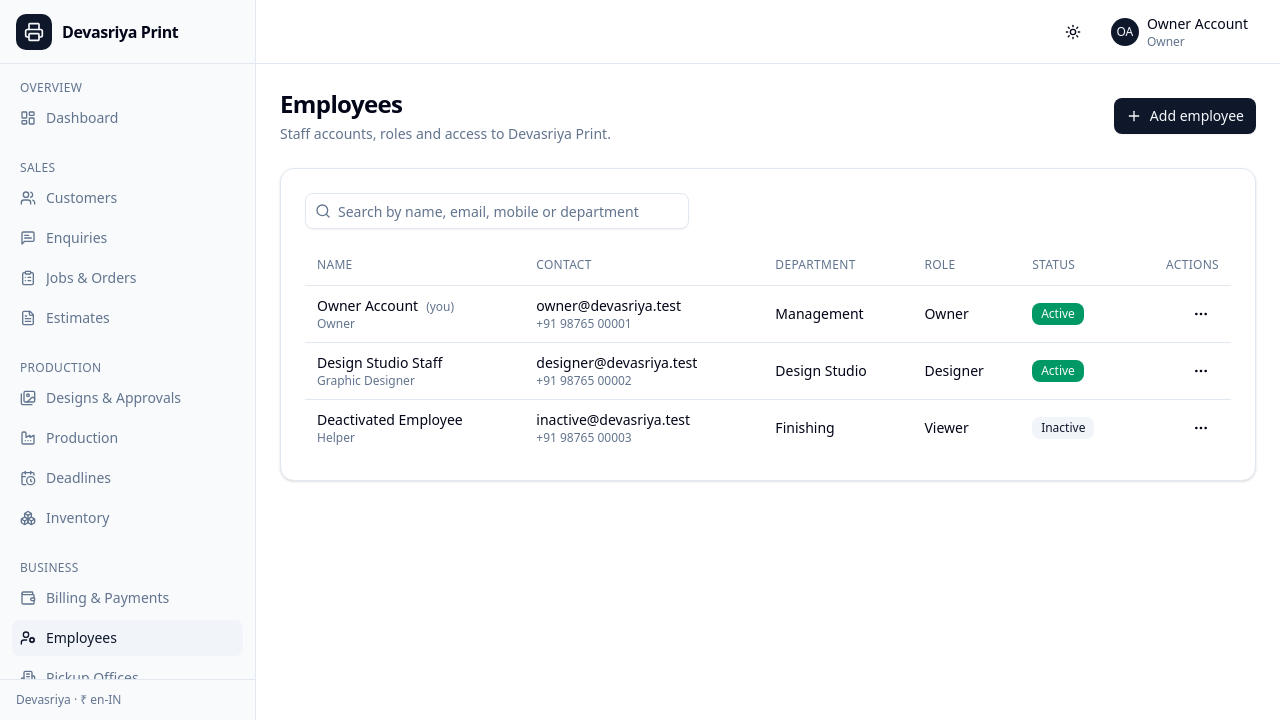
it: audit history › says so when nothing has been recorded
Click the button named "Actions for Design Studio Staff". click: (1201, 370)
box: [1183,352,1219,388]
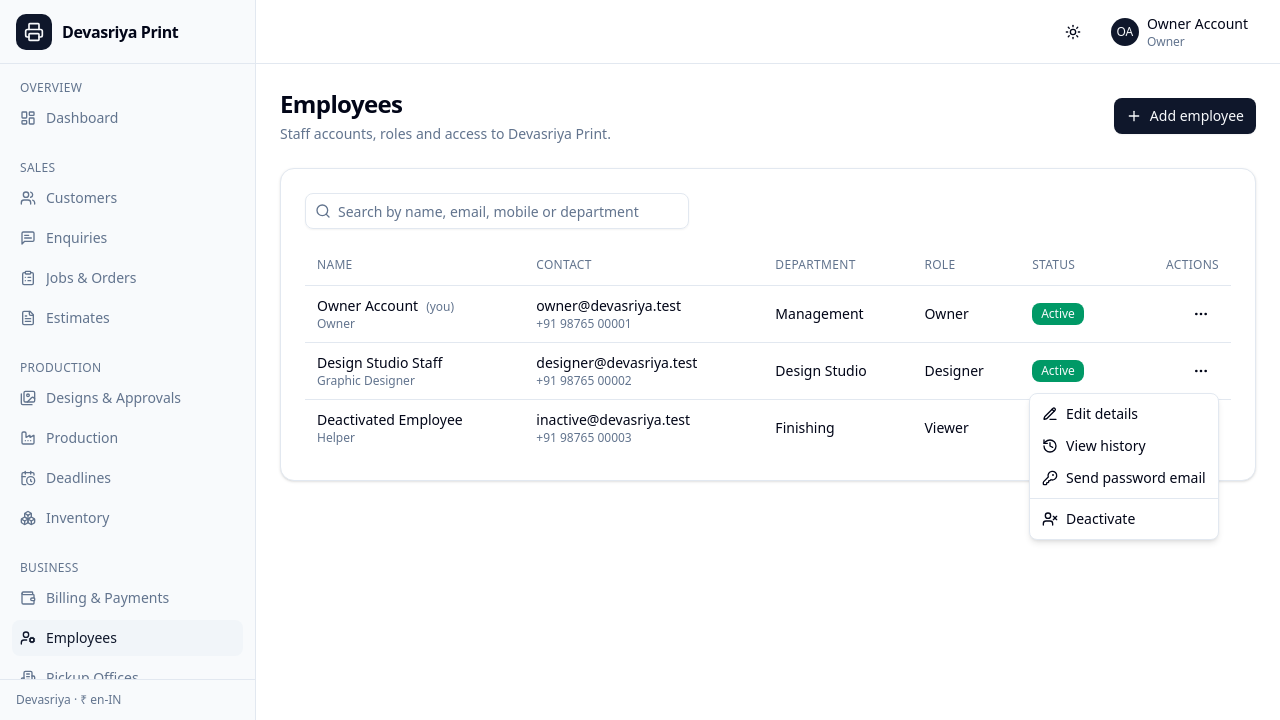
Click the menu item "View history". click: (1094, 446)
box: [1042,436,1146,455]
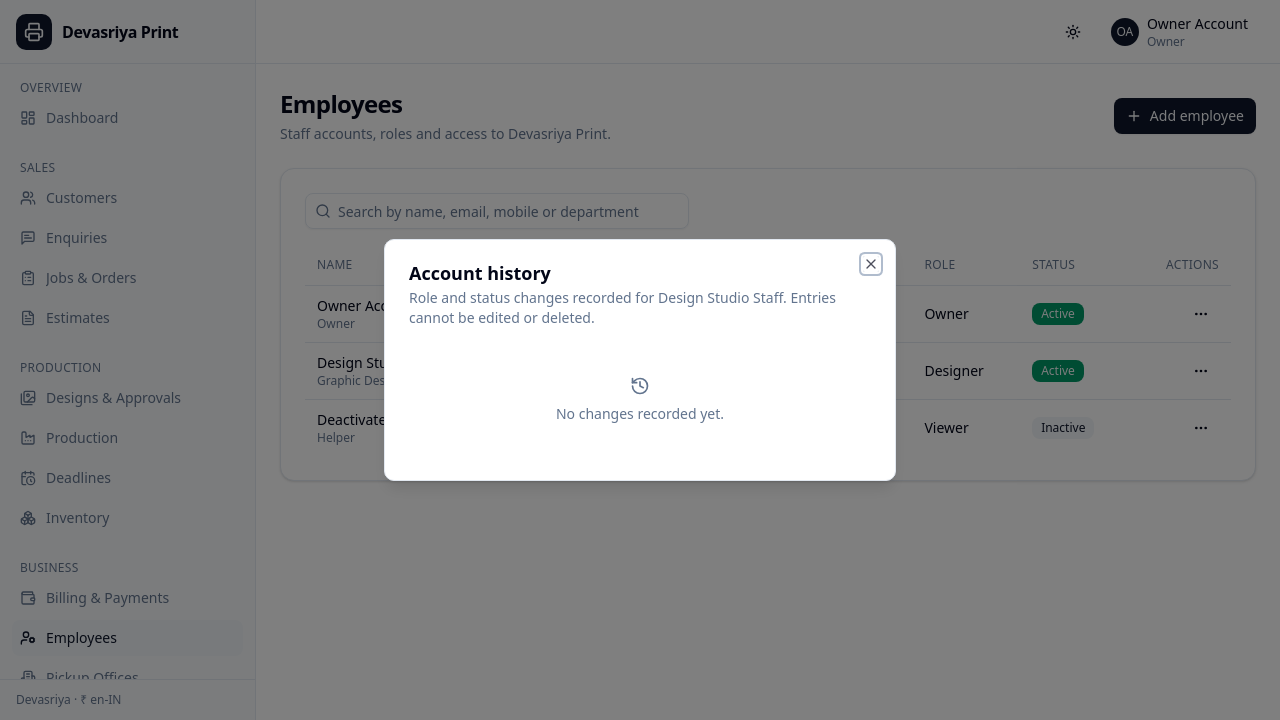
Expected: the text "No changes recorded yet." is shown, [556,404,724,424]
